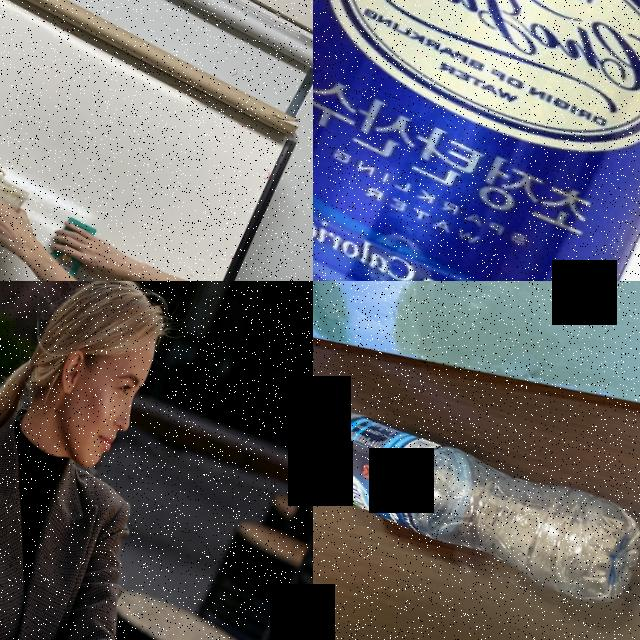bottle: (313, 348, 640, 629)
can: (313, 0, 640, 281)
cup: (0, 166, 32, 252)
